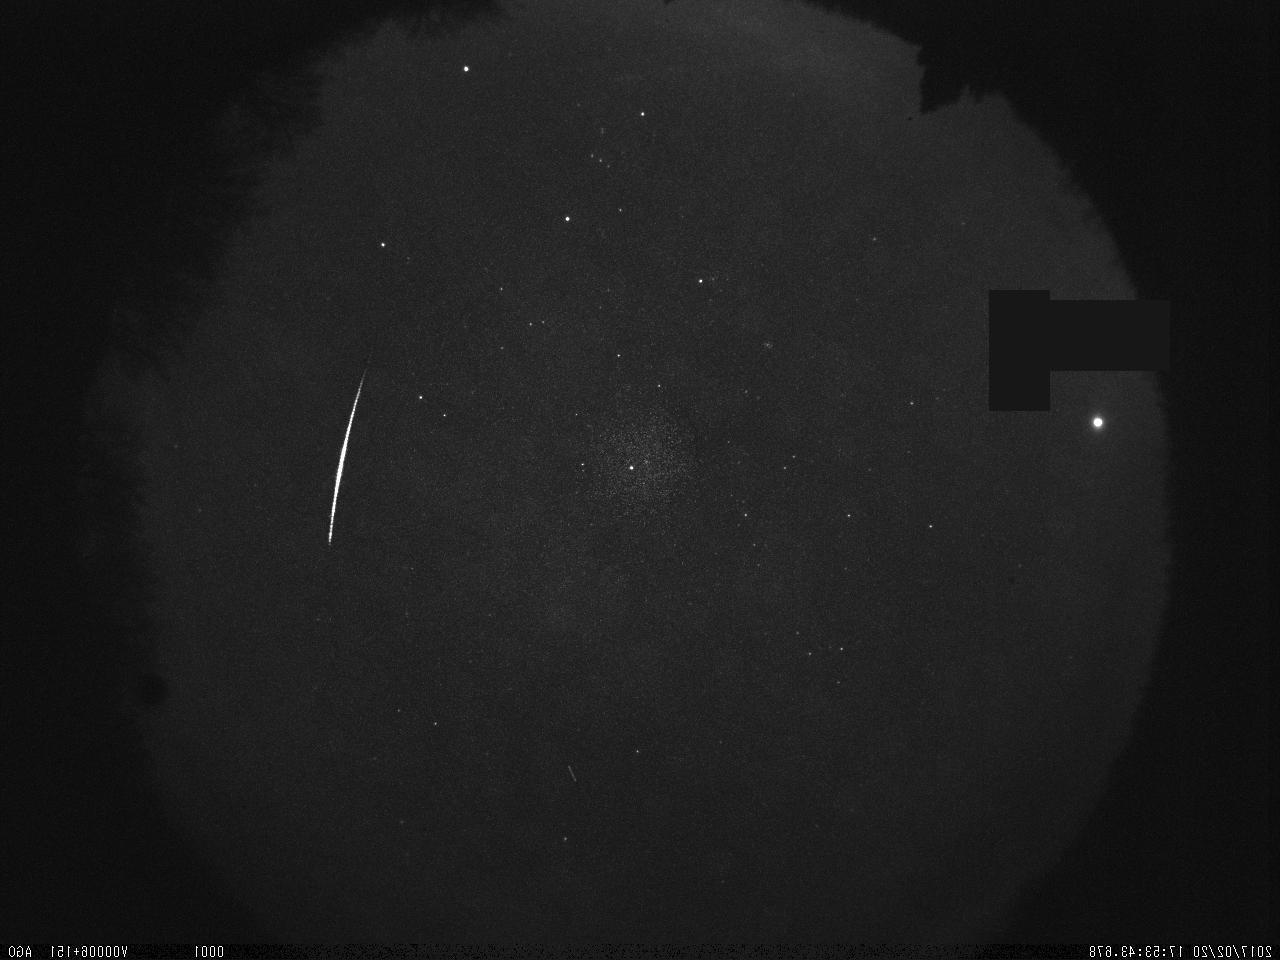meteor: (307, 366, 388, 550)
